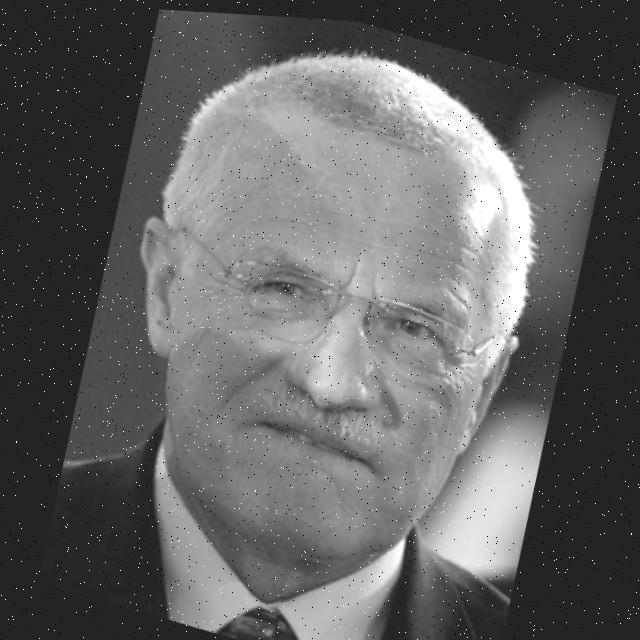face: (112, 57, 560, 614)
